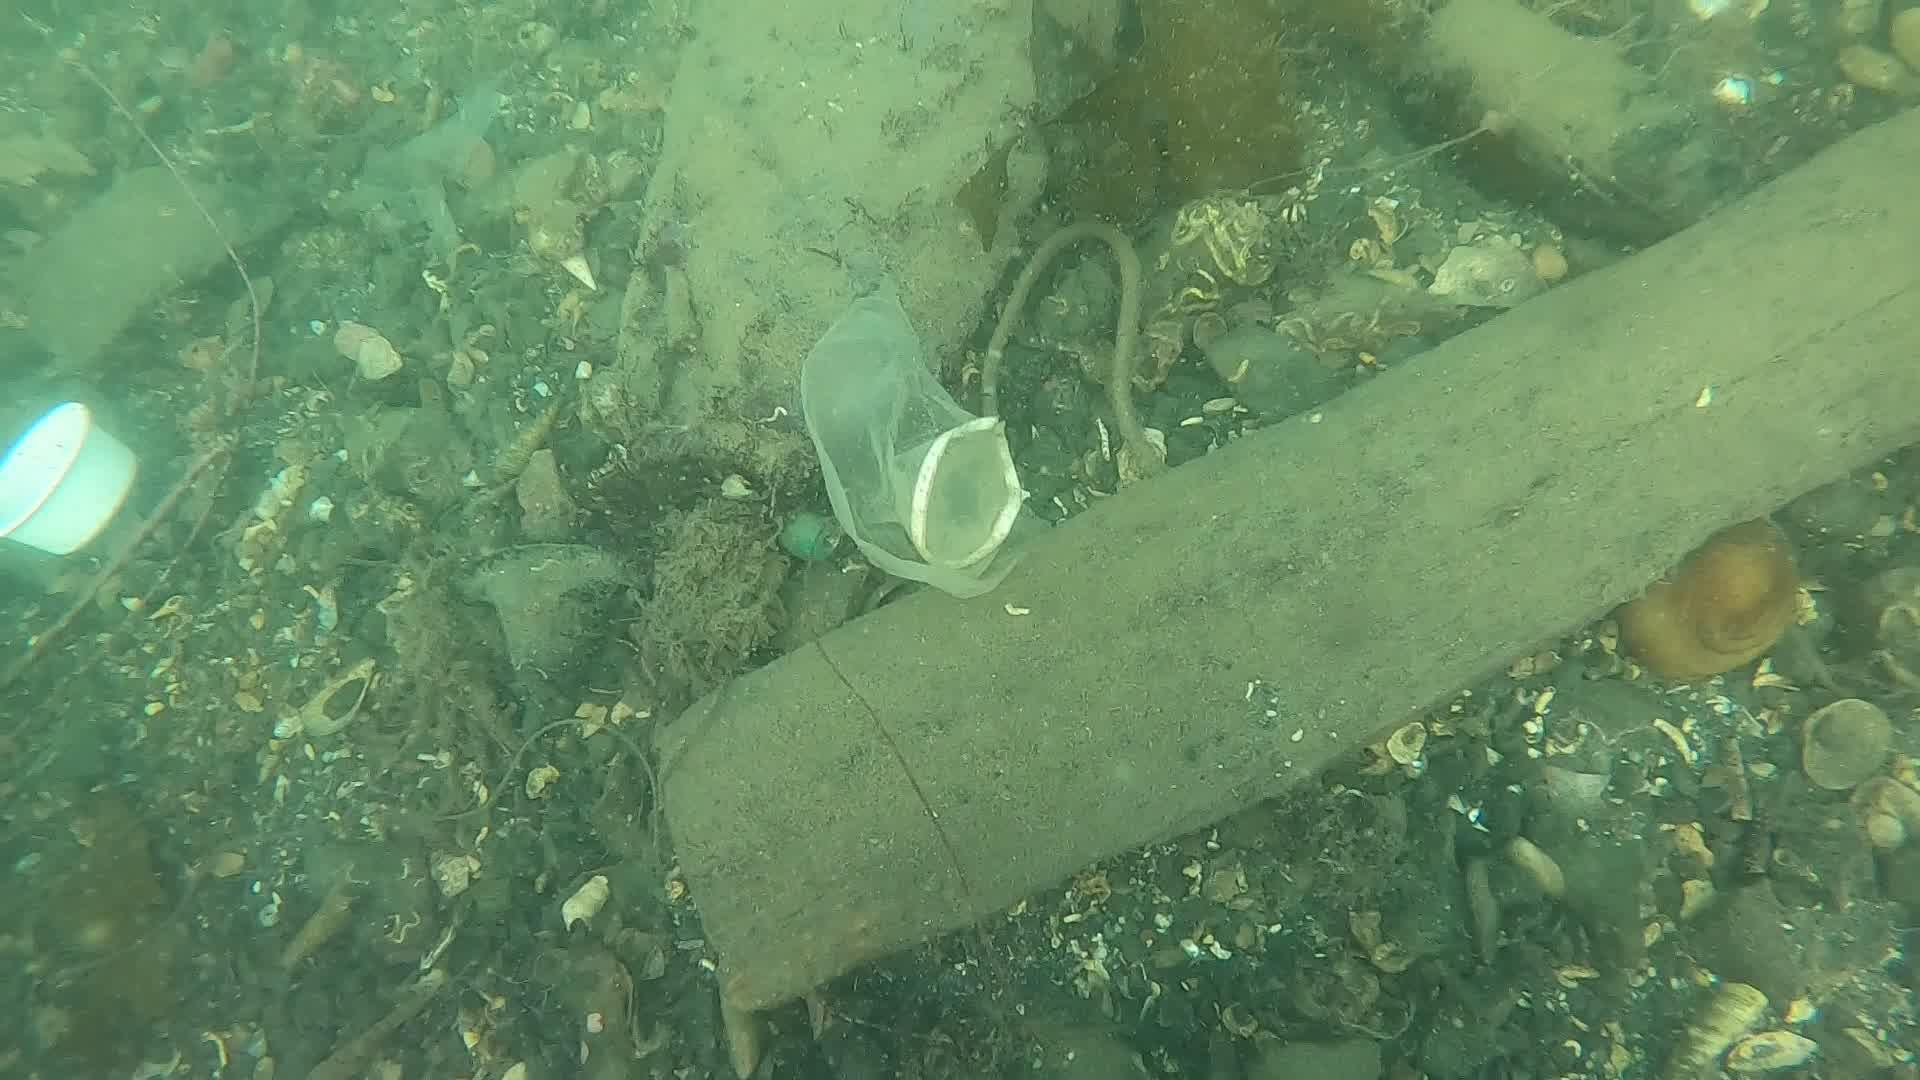wood: (651, 104, 1919, 1011)
